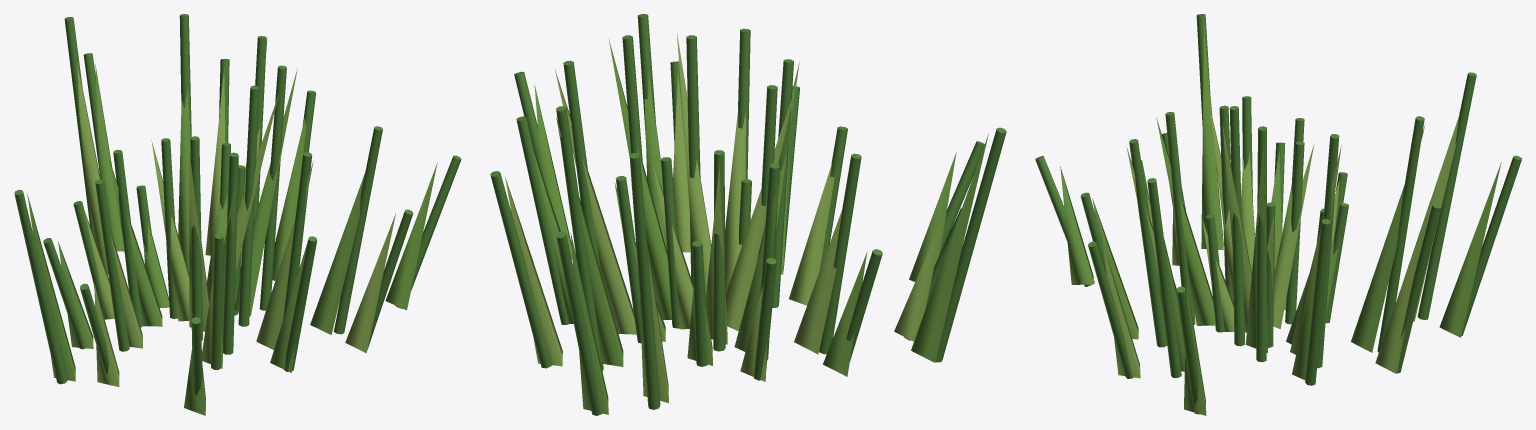
Rendered from LV_BUI_CO_01.glb.
3 renders of one model, left to right at view 1: azimuth 30°, elevation 25°; view 2: azimuth 150°, elevation 25°; view 3: azimuth 270°, elevation 25°, orthographic. The views are drawn at different scales.
Visible parts, largest first — view 1: tips-surface-53873a, tips-surface-6b9c41, tips-surface-88ad51; view 2: tips-surface-53873a, tips-surface-88ad51, tips-surface-6b9c41; view 3: tips-surface-53873a, tips-surface-6b9c41, tips-surface-88ad51.
Boxes of the visible parts, x1,y1,x2,y2 form: tips-surface-53873a: [14, 14, 461, 395]; tips-surface-6b9c41: [27, 64, 437, 415]; tips-surface-88ad51: [77, 39, 395, 386]; tips-surface-53873a: [490, 14, 1006, 415]; tips-surface-88ad51: [505, 31, 945, 402]; tips-surface-6b9c41: [532, 40, 988, 414]; tips-surface-53873a: [1035, 14, 1521, 414]; tips-surface-6b9c41: [1060, 25, 1501, 415]; tips-surface-88ad51: [1103, 106, 1459, 378].
Bounding box in the file's own units: 1.1 × 0.5768 × 1.05.
